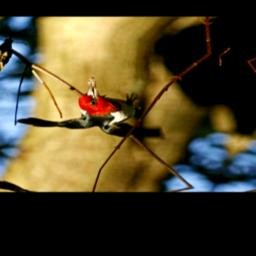Woodpecker: (5, 65, 186, 155)
